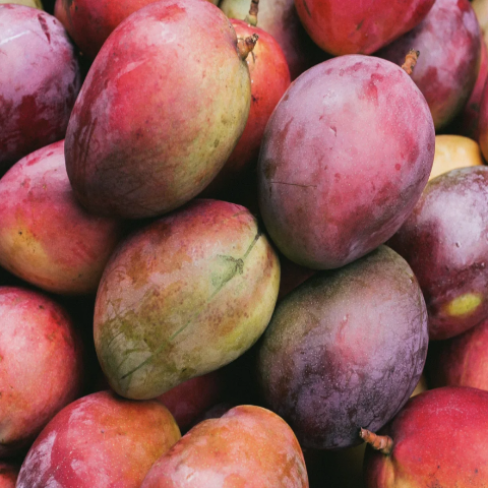mango: (41, 0, 272, 229), (256, 26, 441, 272), (69, 196, 302, 390), (248, 241, 439, 454)
